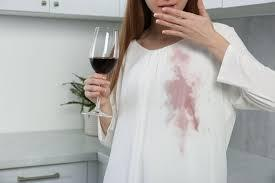oil: (164, 75, 200, 150), (167, 51, 197, 69)
